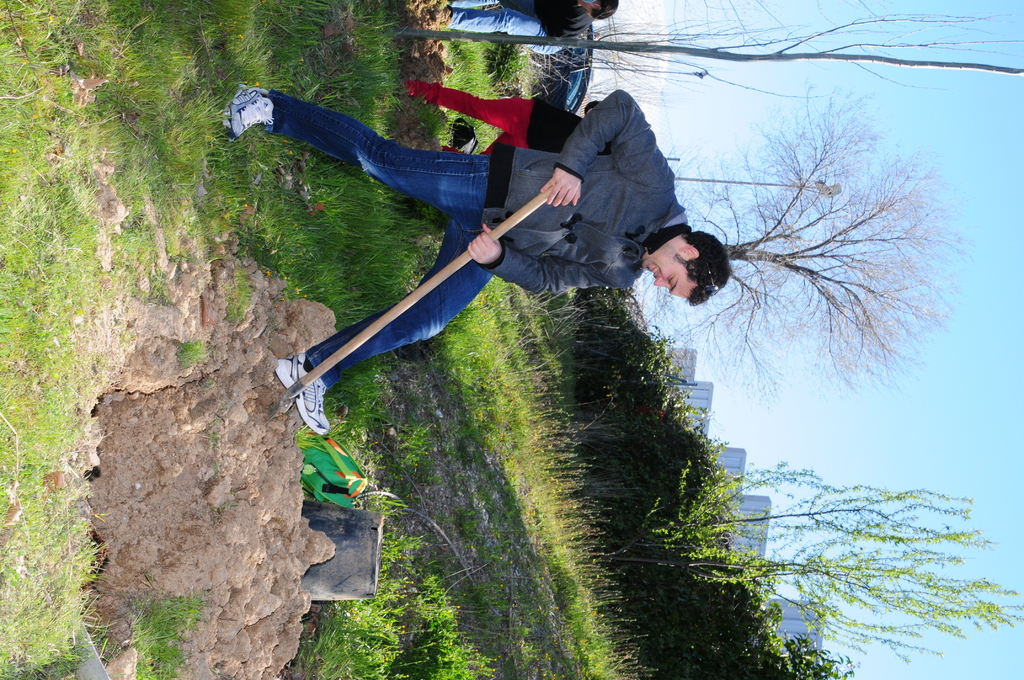Person: (219, 83, 733, 435), (449, 0, 618, 55)
